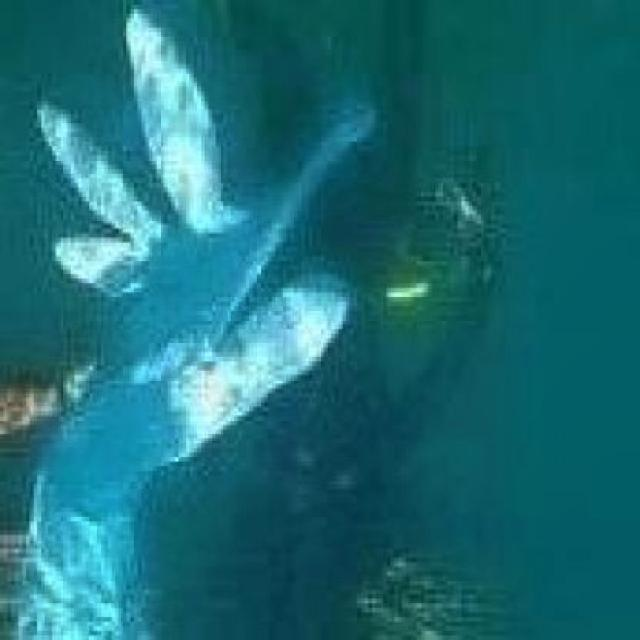glove: (29, 4, 383, 636)
